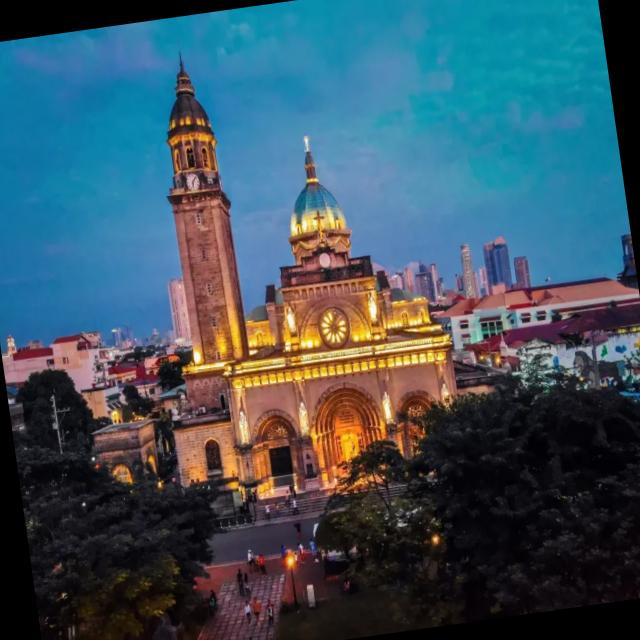Manila Cathedral: (86, 47, 502, 525)
